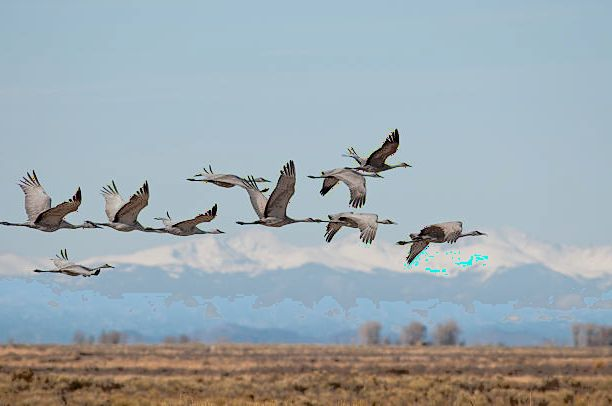Bird: (1, 166, 104, 234), (234, 157, 321, 228), (396, 217, 488, 260), (304, 165, 387, 210), (337, 125, 416, 171), (97, 179, 159, 237), (183, 155, 272, 193), (311, 208, 398, 244), (31, 247, 116, 283), (151, 200, 225, 237)
